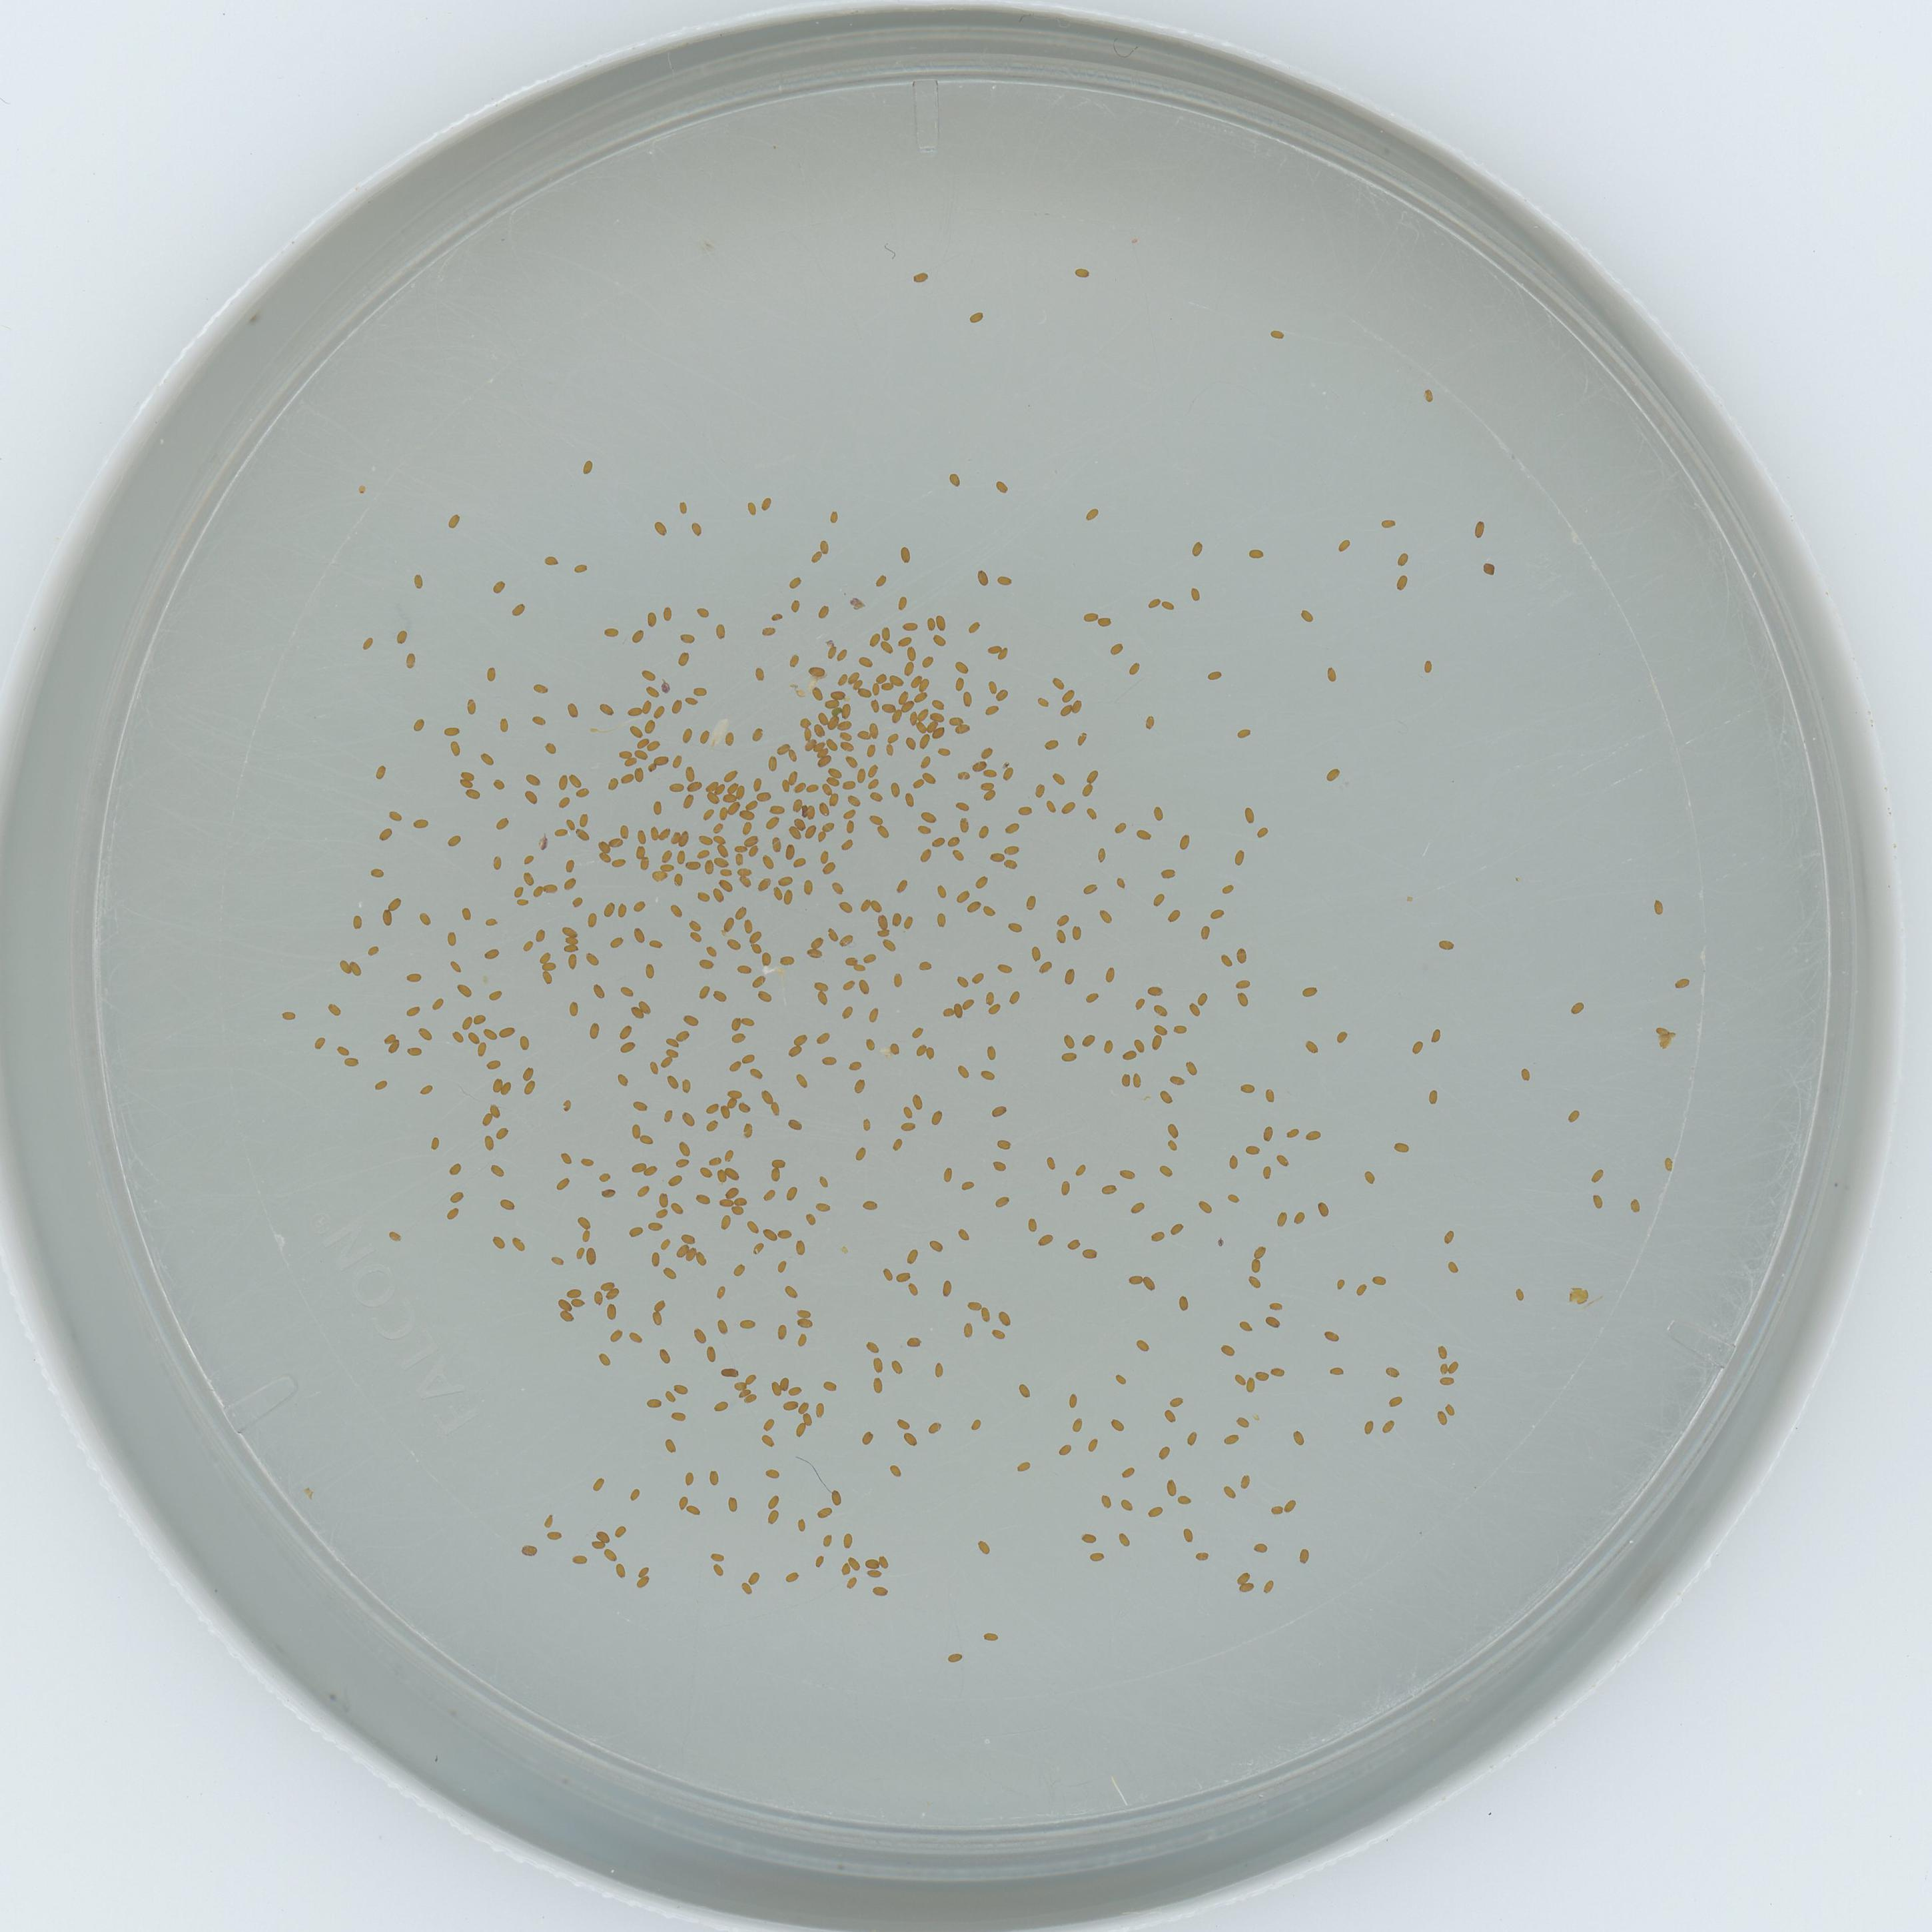seed: (1470, 520, 1490, 540), (895, 545, 915, 563), (755, 876, 775, 893), (920, 807, 939, 824), (524, 770, 543, 787), (750, 665, 770, 683), (954, 886, 971, 906), (520, 1539, 540, 1557), (586, 1021, 605, 1039), (334, 955, 352, 975), (1233, 945, 1253, 962), (936, 610, 952, 632), (442, 722, 460, 740), (393, 628, 410, 646), (653, 518, 671, 536), (777, 1223, 794, 1240), (938, 1277, 955, 1295), (626, 1327, 644, 1345), (603, 1302, 621, 1320), (793, 1237, 810, 1254), (794, 1070, 812, 1088), (481, 1023, 499, 1040), (954, 1226, 971, 1244), (1047, 672, 1065, 690), (1150, 890, 1168, 908), (1230, 849, 1247, 867), (1238, 807, 1256, 824), (1175, 833, 1192, 851), (1040, 798, 1058, 816), (1313, 1198, 1330, 1215), (1118, 1162, 1136, 1180), (989, 1100, 1007, 1118), (1086, 1548, 1104, 1566), (1295, 1546, 1313, 1564), (1058, 968, 1076, 985), (977, 1306, 994, 1323), (1178, 1525, 1196, 1543), (809, 662, 828, 678), (598, 701, 617, 717), (759, 950, 778, 966), (561, 922, 580, 938), (952, 800, 971, 816), (579, 458, 596, 474), (386, 809, 403, 824), (858, 653, 876, 669), (676, 651, 694, 667), (893, 596, 911, 612), (911, 267, 929, 283), (456, 906, 474, 922), (483, 945, 501, 961), (667, 902, 685, 918), (660, 605, 678, 621), (640, 667, 658, 683), (837, 899, 855, 915), (377, 909, 395, 925), (377, 828, 395, 844), (462, 699, 479, 715), (630, 925, 648, 941), (816, 603, 833, 619), (648, 936, 665, 952), (679, 630, 697, 646), (759, 855, 777, 870), (577, 812, 594, 828), (862, 948, 879, 964), (372, 764, 389, 780), (649, 800, 667, 816), (801, 879, 819, 895), (642, 610, 660, 626), (824, 925, 842, 941), (446, 833, 464, 849), (840, 839, 858, 855), (490, 777, 508, 793), (464, 787, 481, 803), (881, 936, 899, 952), (681, 766, 699, 782), (488, 855, 504, 872), (902, 736, 920, 752), (669, 754, 686, 770), (564, 702, 582, 718), (778, 950, 796, 966), (609, 932, 626, 948), (786, 653, 803, 669), (738, 821, 755, 837), (823, 644, 839, 662), (630, 828, 648, 844), (455, 982, 472, 998), (906, 1332, 924, 1348), (865, 1339, 883, 1355), (793, 1516, 810, 1532), (902, 1249, 920, 1265), (925, 1419, 943, 1435), (669, 1200, 686, 1215), (764, 1493, 782, 1509), (310, 1033, 327, 1049), (872, 1583, 890, 1599), (867, 1005, 883, 1023), (722, 1362, 740, 1378), (679, 1109, 697, 1125), (557, 1309, 575, 1325), (784, 1185, 801, 1201), (702, 1345, 720, 1361), (596, 1350, 614, 1366), (870, 1355, 886, 1373), (646, 1396, 663, 1412), (479, 1132, 495, 1150), (575, 1212, 593, 1228), (862, 1196, 879, 1212), (890, 1359, 908, 1375), (428, 996, 446, 1012), (651, 1295, 669, 1311), (750, 973, 768, 989), (766, 1509, 784, 1525), (870, 1376, 886, 1394), (853, 1145, 870, 1161), (584, 1247, 602, 1263), (676, 1139, 694, 1155), (485, 1053, 501, 1070), (782, 1398, 800, 1414), (853, 1076, 869, 1093), (704, 1116, 722, 1132), (722, 1145, 740, 1161), (518, 1063, 536, 1079), (632, 1095, 649, 1111), (628, 1223, 646, 1238), (663, 1072, 681, 1088), (614, 1070, 630, 1088), (570, 1550, 587, 1566), (764, 1465, 782, 1481), (619, 1037, 637, 1053), (510, 1233, 527, 1249), (713, 1398, 731, 1414), (787, 1115, 805, 1131), (490, 1233, 508, 1249), (725, 1164, 743, 1180), (692, 1327, 709, 1343), (349, 961, 366, 977), (448, 957, 464, 975), (1207, 906, 1224, 922), (1079, 883, 1097, 899), (1323, 766, 1341, 782), (1005, 920, 1023, 936), (1392, 575, 1410, 591), (1003, 821, 1021, 837), (1111, 821, 1129, 837), (1214, 950, 1231, 966), (1083, 506, 1100, 522), (1233, 725, 1251, 741), (1058, 800, 1076, 816), (1031, 782, 1047, 800), (973, 570, 991, 586), (1320, 667, 1338, 683), (1205, 667, 1223, 683), (1134, 826, 1152, 842), (1095, 906, 1111, 924), (1269, 324, 1284, 341), (1123, 662, 1141, 678), (1246, 545, 1263, 561), (1139, 715, 1157, 731), (1049, 770, 1065, 787), (1253, 826, 1270, 842), (1304, 1123, 1320, 1141), (978, 1065, 996, 1081), (993, 1191, 1010, 1207), (1079, 1244, 1097, 1260), (1327, 1362, 1345, 1378), (1438, 1228, 1456, 1244), (1233, 1414, 1251, 1430), (1182, 1430, 1200, 1445), (1322, 1325, 1339, 1341), (1056, 1440, 1072, 1458), (1568, 998, 1585, 1014), (1099, 1178, 1116, 1194), (1173, 1293, 1191, 1309), (1166, 1219, 1184, 1235), (994, 1136, 1012, 1152), (1067, 1415, 1085, 1431), (1332, 1028, 1350, 1044), (984, 1042, 1000, 1060), (1168, 1069, 1185, 1085), (1108, 1417, 1125, 1433), (1083, 1437, 1100, 1453), (994, 1309, 1012, 1325), (1035, 1230, 1053, 1246), (1258, 1123, 1276, 1139), (1352, 1281, 1369, 1297), (1014, 1382, 1031, 1398), (1162, 1479, 1178, 1497), (1253, 1366, 1270, 1382), (1302, 1037, 1320, 1053), (1164, 1122, 1182, 1138), (1014, 1458, 1031, 1474), (1392, 1136, 1410, 1152), (1654, 1023, 1672, 1039), (637, 1132, 656, 1146), (674, 1026, 694, 1040), (734, 961, 754, 975), (994, 961, 1014, 975), (564, 952, 577, 973), (442, 931, 458, 947), (810, 686, 826, 702), (510, 602, 525, 617), (918, 754, 934, 770), (869, 791, 885, 807), (844, 807, 860, 823), (720, 916, 736, 932), (770, 888, 786, 904), (568, 773, 584, 789), (368, 865, 384, 881), (386, 895, 402, 911), (770, 609, 786, 625), (722, 731, 738, 747), (520, 853, 536, 869), (724, 766, 740, 782), (856, 686, 872, 702), (817, 801, 833, 817), (777, 872, 793, 888), (543, 554, 559, 570), (412, 816, 428, 832), (446, 513, 462, 529), (600, 902, 616, 918), (531, 713, 547, 729), (916, 823, 932, 839), (870, 897, 886, 913), (725, 936, 741, 952), (817, 538, 833, 554), (782, 890, 798, 906), (494, 816, 510, 832), (349, 913, 364, 929), (671, 874, 686, 890), (483, 667, 499, 683), (743, 501, 759, 517), (695, 603, 711, 619), (570, 895, 586, 911), (886, 729, 902, 745), (676, 499, 692, 515), (554, 775, 570, 791), (902, 915, 918, 931), (556, 794, 571, 810), (734, 904, 750, 920), (897, 633, 913, 649), (674, 849, 690, 865), (713, 623, 729, 639), (775, 740, 791, 755), (954, 658, 970, 674), (490, 579, 506, 594), (826, 508, 842, 524), (410, 573, 426, 589), (844, 754, 860, 770), (902, 617, 918, 633), (688, 520, 704, 536), (554, 826, 570, 842), (446, 741, 462, 757), (740, 876, 755, 892), (840, 931, 856, 947), (766, 816, 782, 832), (577, 828, 593, 844), (741, 918, 757, 934), (902, 793, 918, 809), (888, 782, 904, 798), (605, 777, 621, 793), (947, 713, 962, 729), (653, 704, 669, 720), (699, 807, 715, 823), (402, 653, 418, 669), (847, 793, 863, 809), (890, 672, 906, 688), (777, 778, 793, 794), (817, 849, 833, 865), (823, 862, 839, 878), (715, 844, 731, 860), (617, 824, 633, 840), (702, 862, 718, 878), (671, 1408, 686, 1424), (741, 1012, 757, 1028), (816, 1198, 832, 1214), (895, 1415, 911, 1431), (706, 1468, 722, 1484), (763, 1226, 778, 1242), (793, 1028, 809, 1044), (488, 987, 504, 1003), (715, 1284, 731, 1300), (842, 1532, 858, 1548), (830, 1490, 846, 1506), (812, 1552, 828, 1568), (929, 1237, 945, 1253), (596, 1168, 612, 1184), (727, 1014, 743, 1030), (499, 1021, 515, 1037), (612, 1562, 628, 1578), (405, 1001, 421, 1017), (663, 1437, 679, 1453), (416, 1024, 432, 1040), (740, 1315, 755, 1330), (609, 1327, 625, 1343), (775, 1323, 791, 1339), (890, 971, 906, 987), (888, 1039, 904, 1054), (939, 1166, 955, 1182), (617, 1024, 633, 1040), (591, 982, 607, 998), (662, 1263, 678, 1279), (600, 1185, 616, 1201), (472, 1040, 488, 1056), (899, 1118, 915, 1134), (674, 1378, 690, 1394), (909, 1023, 925, 1039), (713, 987, 729, 1003), (612, 1523, 628, 1539), (446, 1159, 462, 1175), (879, 1265, 895, 1281), (334, 1039, 350, 1054), (715, 1318, 731, 1334), (373, 1074, 389, 1090), (517, 1033, 533, 1049), (499, 1194, 515, 1210), (750, 1240, 766, 1256), (823, 1378, 839, 1394), (709, 1548, 725, 1564), (559, 1095, 575, 1111), (906, 1281, 922, 1297), (909, 1093, 925, 1109), (761, 1433, 777, 1449), (863, 1035, 879, 1051), (817, 1504, 833, 1520), (840, 1003, 856, 1019), (566, 1000, 582, 1016), (591, 1476, 607, 1491), (407, 1042, 423, 1058), (626, 1488, 642, 1504), (759, 1086, 775, 1102), (902, 1431, 918, 1447), (658, 1235, 674, 1251), (681, 1228, 697, 1244), (803, 1210, 819, 1226), (656, 1346, 672, 1362), (731, 1030, 747, 1046), (580, 1154, 596, 1169), (771, 1152, 787, 1168), (775, 1258, 791, 1274), (740, 1123, 755, 1139), (890, 1136, 906, 1152), (418, 1079, 433, 1095), (426, 1134, 442, 1150), (929, 1108, 945, 1123), (478, 1111, 494, 1127), (637, 1182, 653, 1198), (931, 1361, 947, 1376), (738, 1100, 754, 1116), (522, 1079, 538, 1095), (488, 1162, 504, 1178), (487, 1076, 502, 1092), (628, 1122, 644, 1138), (570, 1244, 586, 1260), (695, 1249, 711, 1265), (1054, 911, 1070, 927), (984, 702, 1000, 718), (1150, 805, 1166, 821), (1021, 897, 1037, 913), (1334, 538, 1350, 554), (1026, 945, 1042, 961), (975, 823, 991, 839), (1042, 736, 1058, 752), (993, 478, 1008, 494), (968, 308, 984, 324), (1108, 642, 1123, 658), (1111, 876, 1127, 892), (966, 621, 982, 637), (1196, 924, 1212, 939), (1000, 766, 1016, 782), (1067, 924, 1083, 939), (973, 874, 989, 890), (966, 899, 982, 915), (1092, 849, 1108, 865), (1187, 586, 1203, 602), (1649, 899, 1665, 915), (1479, 561, 1495, 577), (980, 791, 996, 807), (1300, 982, 1316, 998), (1224, 1154, 1240, 1169), (1371, 1272, 1387, 1288), (1182, 1058, 1198, 1074), (1023, 1215, 1039, 1231), (1115, 1070, 1131, 1086), (1267, 1297, 1283, 1313), (1155, 1444, 1171, 1460), (1261, 1086, 1277, 1102), (1168, 1392, 1184, 1408), (1058, 1031, 1074, 1047), (1518, 1065, 1534, 1081), (1290, 1430, 1306, 1445), (1260, 1578, 1276, 1594), (1361, 1419, 1376, 1435), (1196, 1198, 1212, 1214), (1152, 1021, 1168, 1037), (1005, 991, 1021, 1007), (1141, 1274, 1157, 1290), (1284, 1122, 1300, 1138), (1125, 1270, 1141, 1286), (982, 1629, 998, 1645), (1511, 1286, 1527, 1302), (1267, 1502, 1283, 1518), (1171, 1021, 1187, 1037), (1246, 1274, 1261, 1290), (1063, 1235, 1079, 1251), (1063, 1392, 1079, 1408), (1054, 1178, 1070, 1194), (1132, 1336, 1148, 1352), (1589, 1166, 1605, 1182), (1238, 1077, 1254, 1093), (1157, 1088, 1173, 1104), (1132, 1072, 1148, 1088), (1675, 975, 1691, 991), (1244, 1141, 1260, 1157), (1224, 1189, 1240, 1205), (1237, 1316, 1253, 1332), (1283, 1497, 1299, 1513), (1146, 1504, 1162, 1520), (1362, 1168, 1378, 1184), (1428, 1026, 1444, 1042), (991, 1159, 1007, 1175), (968, 1415, 984, 1431), (1387, 1392, 1403, 1408), (1079, 1030, 1095, 1046), (1433, 1343, 1449, 1359), (1626, 1196, 1642, 1212), (1129, 1198, 1145, 1214), (1157, 1162, 1173, 1178), (1272, 1210, 1288, 1226), (1095, 1493, 1111, 1509), (1332, 1276, 1348, 1292), (1070, 1161, 1086, 1177), (1589, 1192, 1605, 1208), (1099, 1037, 1115, 1053), (1111, 1371, 1127, 1387), (966, 1297, 982, 1313), (961, 1177, 977, 1192), (901, 662, 918, 676), (770, 801, 787, 816), (697, 731, 715, 745), (879, 642, 897, 656), (830, 881, 847, 895), (876, 826, 893, 840), (626, 724, 644, 738), (603, 625, 621, 639), (686, 778, 704, 793), (761, 625, 778, 639), (934, 909, 948, 927), (626, 704, 644, 718), (573, 787, 591, 801), (686, 918, 704, 932), (582, 913, 600, 927), (849, 596, 867, 610), (855, 899, 872, 913), (791, 780, 809, 794), (633, 736, 651, 750), (678, 830, 692, 847), (648, 824, 662, 842), (655, 752, 672, 766), (770, 837, 784, 855), (699, 957, 717, 971), (533, 837, 550, 851), (996, 649, 1014, 663), (683, 1012, 701, 1026), (725, 1083, 743, 1097), (326, 1001, 343, 1016), (448, 1028, 465, 1042), (888, 1463, 906, 1477), (747, 1569, 764, 1583), (814, 1173, 832, 1187), (731, 1261, 748, 1276), (494, 1125, 511, 1139), (280, 1007, 297, 1021), (674, 1155, 692, 1169), (653, 1205, 671, 1219), (341, 1054, 359, 1069), (587, 1290, 605, 1304), (577, 1228, 594, 1242), (709, 1564, 727, 1578), (635, 1564, 653, 1578), (724, 1182, 741, 1196), (994, 573, 1012, 587), (1014, 803, 1031, 817), (1159, 867, 1177, 881), (980, 904, 998, 918), (1072, 264, 1090, 278), (1079, 809, 1097, 823), (1217, 883, 1235, 897), (978, 778, 996, 793), (961, 692, 975, 709), (1233, 1569, 1251, 1583), (1118, 1047, 1136, 1062), (1150, 1003, 1168, 1017), (1408, 1040, 1426, 1054), (1251, 1242, 1269, 1256), (1145, 984, 1162, 998), (1233, 977, 1251, 991), (975, 1541, 993, 1555), (1223, 1431, 1240, 1445), (924, 612, 936, 632), (462, 766, 478, 780), (874, 573, 890, 587), (694, 683, 709, 697), (630, 628, 646, 642), (416, 911, 432, 925), (787, 575, 803, 589), (809, 550, 824, 564), (617, 747, 633, 761), (410, 718, 426, 732), (669, 780, 685, 794), (890, 909, 904, 925), (545, 883, 561, 897), (883, 701, 899, 715), (632, 899, 648, 913), (947, 472, 962, 487), (909, 777, 925, 791), (869, 812, 885, 826), (543, 741, 559, 755), (533, 927, 548, 941), (364, 943, 380, 957), (945, 833, 961, 847), (524, 791, 540, 805), (759, 497, 775, 511), (787, 598, 803, 612), (931, 835, 947, 849), (918, 849, 934, 863), (766, 755, 782, 770), (931, 633, 947, 648), (842, 780, 858, 794), (750, 727, 766, 741), (563, 878, 579, 892), (789, 798, 803, 814), (533, 681, 548, 695), (495, 718, 511, 732), (819, 750, 833, 766), (697, 833, 713, 847), (479, 752, 495, 766), (520, 870, 536, 885), (671, 699, 685, 715), (924, 770, 938, 786), (713, 888, 727, 904), (931, 695, 947, 709), (681, 796, 697, 810), (893, 879, 909, 893), (642, 720, 658, 734), (644, 685, 660, 699), (571, 561, 587, 575), (653, 870, 669, 885), (757, 789, 773, 803), (561, 860, 577, 874), (950, 678, 966, 692), (784, 844, 798, 860), (695, 892, 711, 906), (614, 904, 630, 918), (686, 860, 702, 874), (612, 858, 628, 872), (648, 738, 662, 754), (839, 718, 855, 732), (679, 729, 695, 743), (518, 939, 534, 954), (738, 865, 754, 879), (359, 637, 375, 651), (732, 853, 747, 869), (750, 777, 766, 791), (695, 847, 711, 862), (863, 743, 879, 757), (842, 702, 856, 718), (510, 885, 525, 899), (584, 950, 600, 964), (810, 932, 826, 947), (483, 915, 499, 929), (867, 763, 881, 778), (837, 648, 851, 663), (865, 633, 881, 648), (786, 826, 801, 840), (706, 941, 720, 957), (688, 931, 704, 945), (844, 823, 860, 837), (793, 855, 807, 870), (709, 821, 725, 835), (904, 648, 920, 662), (536, 950, 552, 964), (892, 711, 908, 725), (632, 846, 648, 860), (748, 929, 764, 943), (745, 833, 761, 847), (936, 745, 952, 759), (874, 915, 890, 929), (823, 819, 839, 833), (807, 782, 823, 796), (826, 766, 842, 780), (842, 741, 858, 755), (658, 826, 674, 840), (619, 984, 635, 998), (566, 1283, 582, 1297), (472, 1010, 488, 1024), (458, 1014, 474, 1028), (895, 1269, 911, 1283), (947, 1651, 962, 1665), (660, 1108, 676, 1122), (540, 971, 556, 985), (784, 1284, 800, 1299), (644, 1162, 660, 1177), (816, 1030, 832, 1044), (748, 1065, 764, 1079), (695, 1191, 711, 1205), (869, 1568, 885, 1582), (757, 989, 773, 1003), (823, 1053, 839, 1067), (768, 1100, 784, 1115), (448, 1189, 464, 1203), (405, 970, 421, 984), (725, 1497, 741, 1511), (860, 1430, 876, 1444), (816, 991, 832, 1005), (814, 978, 830, 993), (821, 1532, 837, 1546), (547, 1529, 563, 1543), (879, 1553, 893, 1569), (786, 1569, 801, 1583), (745, 1219, 761, 1233), (686, 1504, 702, 1518), (649, 1311, 665, 1325), (741, 1049, 757, 1063), (556, 1175, 571, 1189), (556, 1295, 571, 1309), (648, 1217, 663, 1231), (847, 1056, 863, 1070), (386, 1228, 402, 1242), (602, 1548, 617, 1562), (557, 1150, 573, 1164), (683, 1470, 697, 1486), (490, 1100, 504, 1116), (548, 1253, 564, 1267), (840, 977, 856, 991), (793, 1421, 807, 1437), (858, 980, 874, 994), (697, 984, 713, 998), (740, 1582, 754, 1598), (770, 1166, 786, 1180), (761, 1415, 777, 1430), (681, 1077, 695, 1093), (669, 1171, 685, 1185), (787, 1044, 803, 1058), (763, 1187, 778, 1201), (648, 1060, 663, 1074), (796, 1332, 812, 1346), (444, 1207, 460, 1221), (676, 1493, 690, 1509), (630, 1157, 646, 1171), (704, 1099, 720, 1113), (663, 1389, 679, 1403), (901, 1102, 915, 1118), (648, 1251, 663, 1265), (847, 1557, 863, 1571), (863, 1555, 879, 1569), (628, 1005, 644, 1019), (913, 1040, 927, 1056), (955, 1063, 970, 1079), (718, 1214, 734, 1228), (925, 1044, 939, 1060), (635, 1576, 651, 1591), (386, 1039, 402, 1053), (589, 1537, 605, 1552), (674, 1242, 688, 1258), (718, 1194, 734, 1208), (1145, 594, 1159, 610), (987, 851, 1003, 865), (985, 642, 1001, 656), (1051, 929, 1067, 943), (1085, 768, 1100, 782), (1438, 936, 1454, 950), (1187, 541, 1203, 556), (1421, 387, 1435, 403), (1077, 784, 1093, 798), (1299, 609, 1315, 623), (1419, 660, 1435, 674), (1166, 909, 1182, 924), (1003, 860, 1019, 874), (1394, 552, 1410, 566), (1054, 704, 1070, 718), (994, 688, 1008, 704), (978, 745, 994, 759), (1081, 609, 1097, 623), (1095, 616, 1111, 630), (984, 679, 1000, 694), (1060, 688, 1076, 702), (1069, 701, 1085, 715), (1003, 844, 1019, 858), (901, 699, 916, 713), (1037, 961, 1053, 975), (970, 970, 985, 984), (1060, 1049, 1076, 1063), (1083, 989, 1099, 1003), (1148, 1037, 1164, 1051), (1120, 1465, 1136, 1479), (1184, 1003, 1200, 1017), (1269, 1364, 1284, 1378), (1438, 1375, 1454, 1389), (1251, 1541, 1267, 1555), (1263, 1315, 1279, 1329), (1118, 1497, 1134, 1511), (1290, 1208, 1306, 1223), (1081, 1530, 1095, 1546), (1433, 1412, 1449, 1426), (1247, 1258, 1263, 1272), (1384, 1364, 1399, 1378), (1380, 1419, 1396, 1433), (1235, 1474, 1251, 1488), (1131, 996, 1146, 1010), (1100, 968, 1116, 982), (1175, 1493, 1191, 1507), (1219, 1341, 1233, 1357), (1161, 1408, 1177, 1422), (989, 1325, 1005, 1339), (1148, 1228, 1164, 1242), (1042, 1155, 1058, 1169), (1221, 1486, 1237, 1500), (1192, 1548, 1208, 1562), (1258, 1164, 1274, 1178), (1566, 1109, 1582, 1123), (1424, 1088, 1440, 1102), (1116, 1530, 1131, 1546), (1132, 1039, 1148, 1053), (1235, 991, 1249, 1007), (1274, 1152, 1290, 1166), (1444, 1258, 1460, 1272), (1661, 1155, 1675, 1171), (1230, 1371, 1246, 1385), (1164, 1138, 1180, 1152), (962, 994, 977, 1010), (955, 768, 971, 782), (856, 768, 869, 786), (897, 688, 909, 706), (874, 925, 892, 938), (844, 1576, 862, 1589), (964, 1322, 975, 1341), (835, 672, 849, 686), (932, 725, 947, 740), (881, 626, 895, 640), (529, 885, 543, 899), (934, 885, 948, 899), (826, 738, 840, 752), (950, 849, 964, 863), (787, 770, 801, 784), (633, 770, 648, 784), (869, 724, 883, 738), (637, 858, 651, 872), (885, 743, 899, 757), (708, 791, 722, 805), (619, 773, 633, 787), (736, 786, 750, 800), (858, 727, 872, 741), (798, 715, 812, 729), (598, 853, 612, 867), (816, 709, 830, 724), (658, 849, 672, 863), (732, 842, 747, 856), (720, 879, 734, 893), (925, 720, 939, 734), (916, 708, 931, 722), (817, 832, 832, 846), (465, 1028, 479, 1042), (729, 1058, 743, 1072), (656, 1191, 671, 1205), (642, 966, 656, 980), (860, 1116, 874, 1131), (816, 1403, 830, 1417), (541, 1514, 556, 1529), (639, 998, 653, 1012), (708, 1152, 722, 1166), (499, 1083, 513, 1097), (596, 1529, 610, 1543), (798, 1399, 812, 1414), (839, 1562, 853, 1576), (941, 1003, 955, 1017), (778, 1376, 793, 1391), (1035, 695, 1049, 709), (1380, 517, 1394, 531), (1074, 732, 1088, 747), (980, 991, 994, 1005), (1194, 991, 1208, 1005), (918, 957, 932, 971), (924, 653, 936, 669), (869, 699, 881, 715), (515, 895, 531, 908), (745, 800, 761, 812), (642, 699, 655, 715), (869, 778, 885, 791), (844, 954, 860, 966), (607, 837, 623, 849), (803, 740, 819, 752), (729, 801, 745, 814), (793, 817, 809, 830), (633, 748, 649, 761), (713, 855, 729, 867), (796, 1304, 812, 1316), (770, 1380, 782, 1396), (380, 1030, 396, 1042), (720, 1104, 732, 1120), (605, 1286, 621, 1299), (743, 1394, 759, 1407), (1157, 600, 1173, 612), (1444, 1401, 1456, 1417), (931, 711, 947, 724), (872, 672, 890, 683), (563, 943, 580, 954), (957, 817, 968, 835), (954, 724, 971, 734), (796, 1316, 814, 1327), (853, 962, 870, 973), (731, 1207, 748, 1217), (1237, 1582, 1254, 1592), (909, 674, 922, 688), (564, 819, 577, 833), (918, 736, 931, 750), (803, 805, 816, 819), (706, 778, 720, 791), (748, 941, 763, 954), (660, 862, 674, 874), (594, 840, 609, 853), (685, 695, 699, 708), (646, 761, 658, 775), (748, 846, 763, 858), (787, 750, 801, 763), (847, 671, 862, 683), (805, 824, 817, 839), (830, 793, 842, 807), (791, 1384, 805, 1396), (699, 1166, 713, 1178), (801, 1412, 816, 1424), (745, 1371, 759, 1384), (732, 1378, 747, 1391), (715, 1168, 727, 1182), (570, 1297, 584, 1309), (685, 1247, 697, 1261), (971, 759, 985, 771), (987, 1001, 1001, 1014), (1447, 1361, 1461, 1373), (1244, 1378, 1256, 1392), (920, 678, 934, 690), (715, 782, 727, 796), (954, 1001, 962, 1021), (824, 699, 840, 709), (879, 683, 895, 694), (743, 810, 759, 821), (665, 1044, 681, 1054), (663, 1035, 679, 1046), (598, 1279, 614, 1290), (807, 950, 824, 959), (814, 724, 826, 736), (718, 809, 731, 821), (840, 731, 853, 743), (736, 1192, 748, 1205), (1437, 1362, 1449, 1375), (727, 780, 740, 793), (832, 688, 846, 699), (625, 759, 639, 770), (722, 793, 736, 803), (801, 727, 812, 741), (872, 681, 883, 695), (660, 1054, 674, 1065), (957, 973, 968, 987), (982, 770, 996, 780), (821, 782, 832, 796), (911, 694, 927, 702), (736, 1389, 752, 1398), (564, 936, 580, 945), (915, 722, 927, 732), (727, 1097, 740, 1108), (543, 962, 557, 971), (460, 780, 474, 789), (828, 718, 839, 729), (717, 867, 732, 874), (671, 832, 679, 844), (826, 777, 839, 786), (909, 711, 916, 725), (853, 679, 863, 688)
